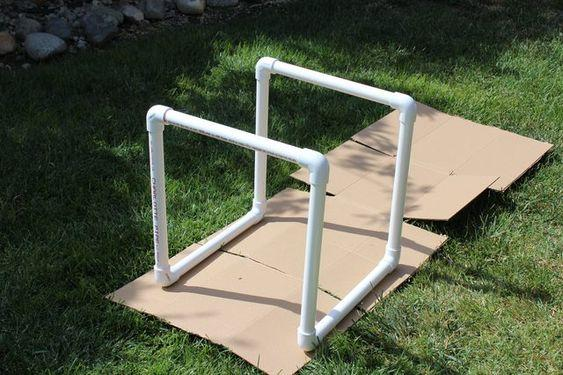PVC: (144, 101, 330, 186), (240, 57, 434, 125), (298, 146, 331, 351), (387, 88, 416, 271), (146, 104, 173, 288), (252, 57, 272, 223)
